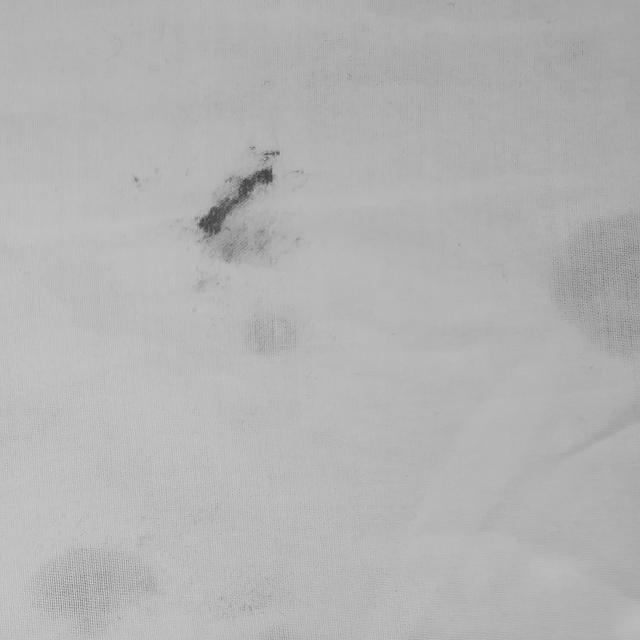Stain: (188, 140, 323, 368), (12, 542, 178, 640), (537, 208, 636, 362)
